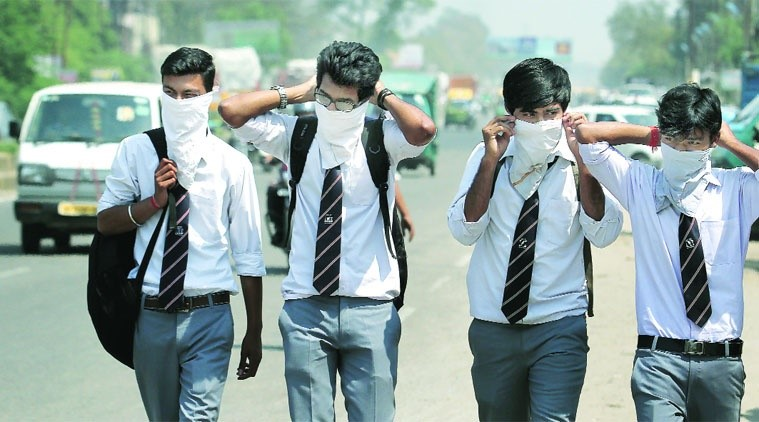face_with_mask: (501, 54, 573, 159), (654, 88, 723, 183), (311, 45, 374, 136), (156, 50, 216, 129)
